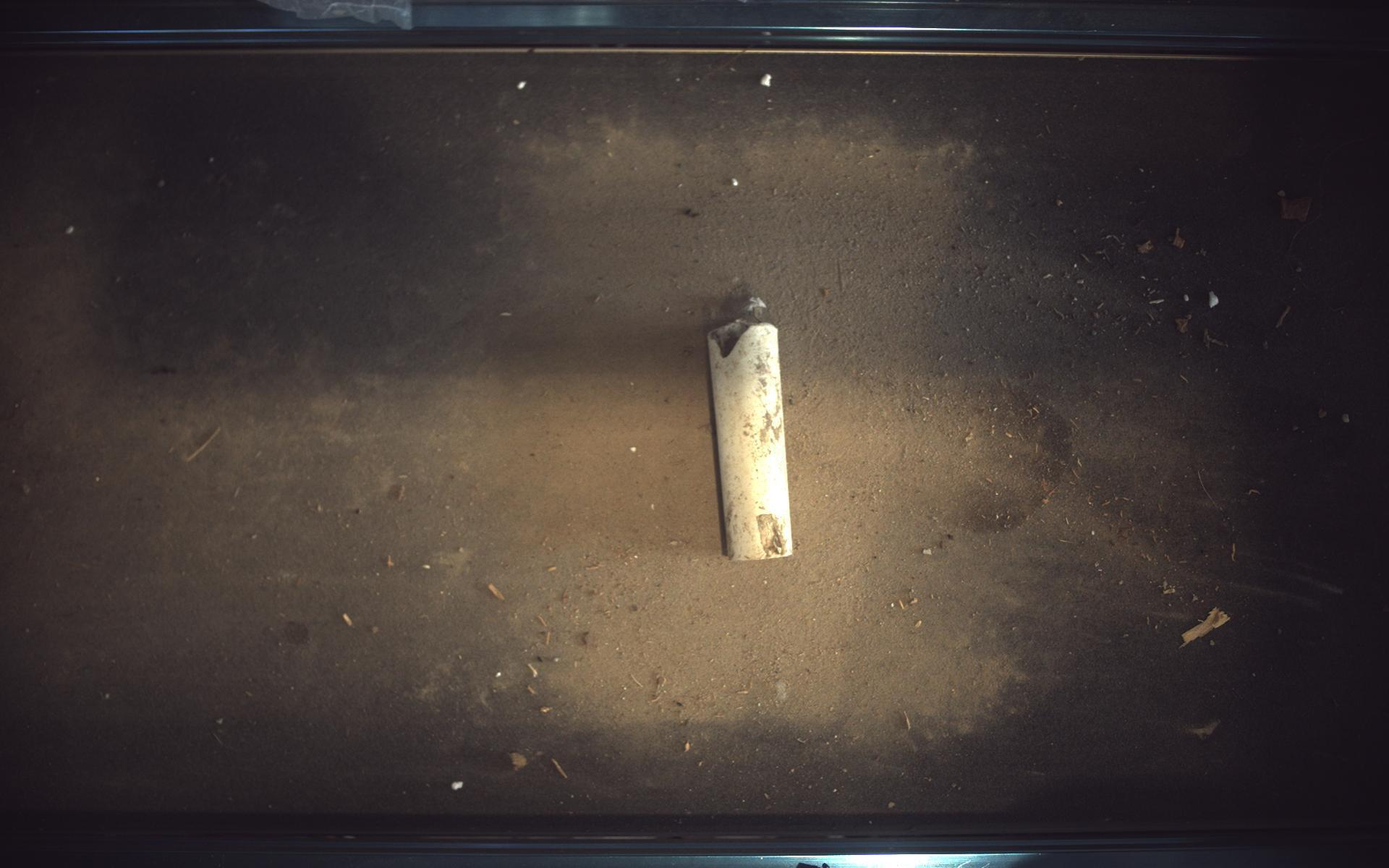pipes: (709, 297, 794, 561)
